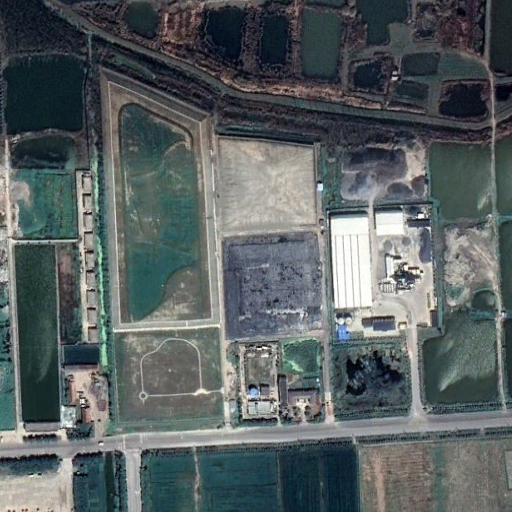lf: (212, 125, 326, 336)
